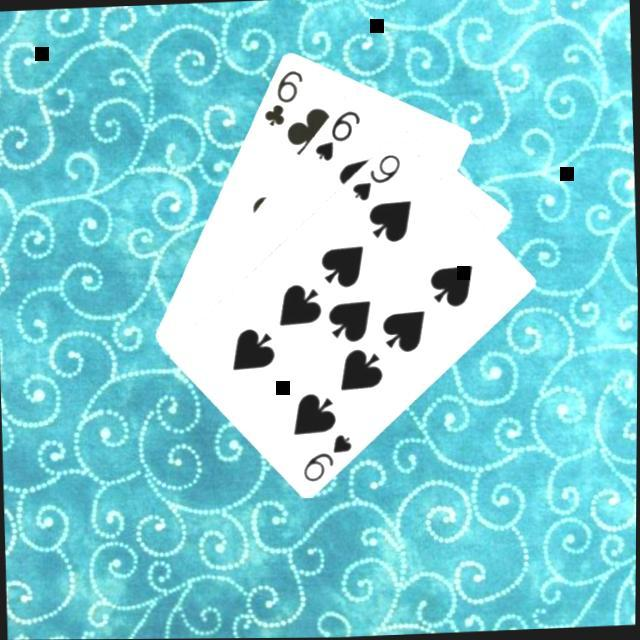6C: (259, 64, 307, 128)
6S: (311, 105, 366, 163)
9S: (299, 428, 357, 484), (347, 149, 405, 203)
